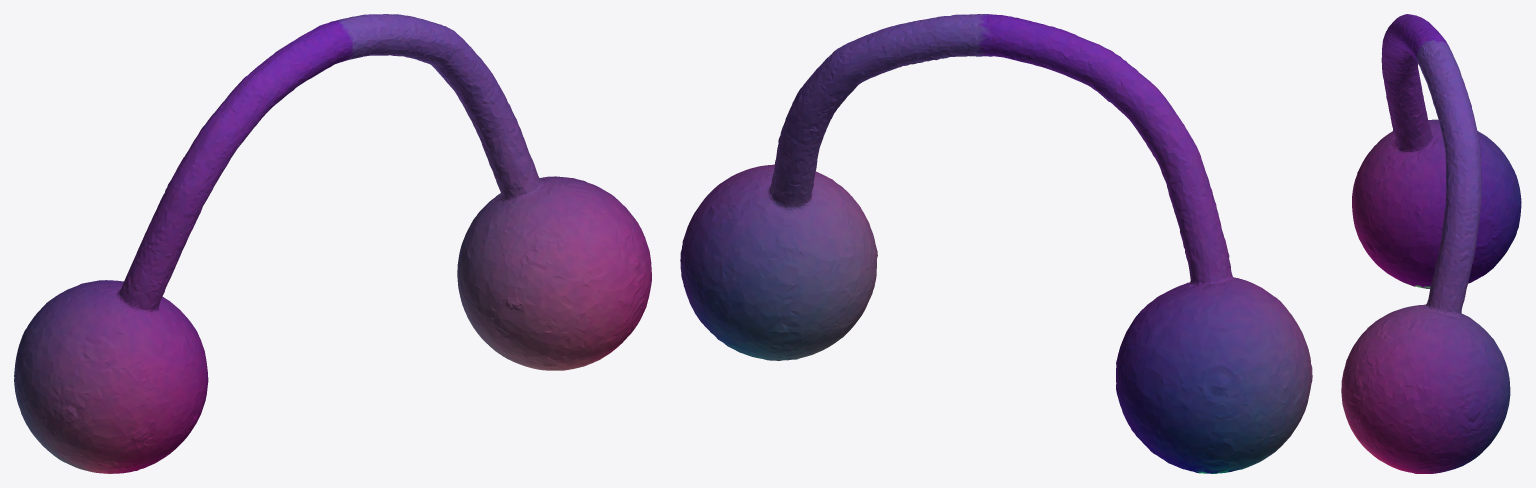
File: twoballs-9.off.obj
3 views of the same model, side by side, from view 1: azimuth 30°, elevation 25°; view 2: azimuth 150°, elevation 25°; view 3: azimuth 270°, elevation 25° (orthographic). The views are drawn at different scales.
Bounding box in the file's own units: 1.77 × 1.09 × 0.5248.
